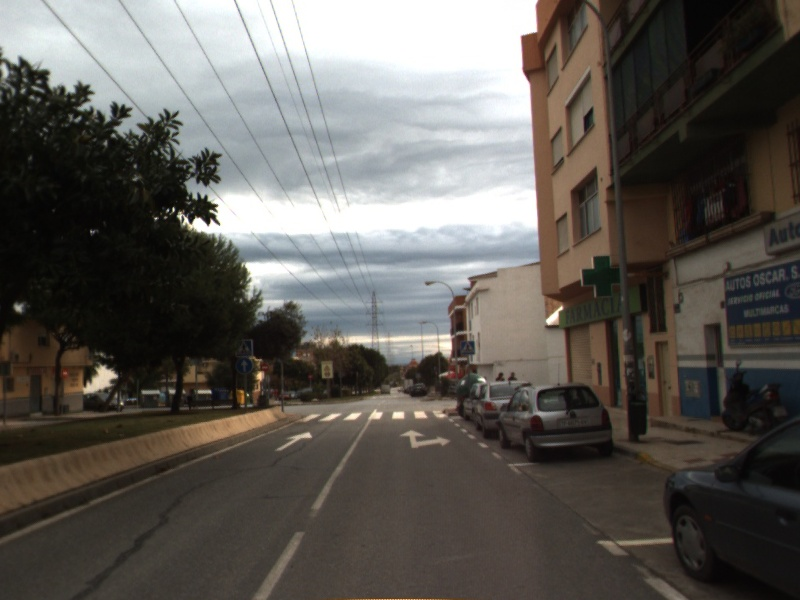STRAIGHT: (273, 430, 314, 453)
STRAIGHT_RIGHT: (398, 427, 453, 450)
